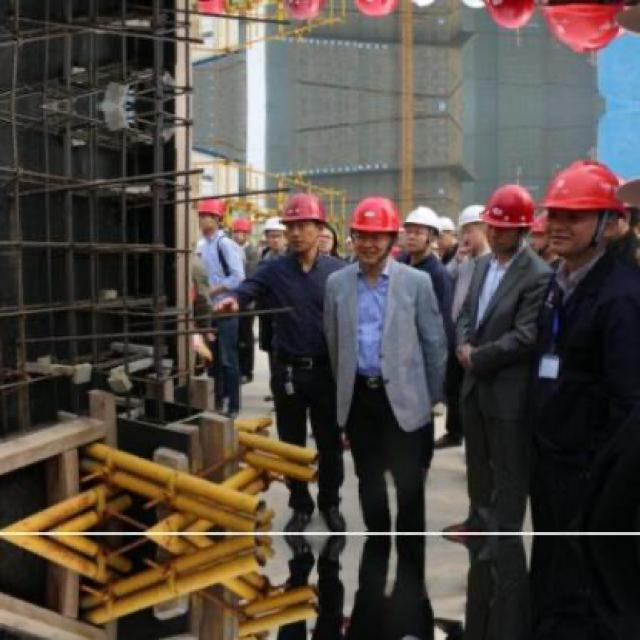con casco: (521, 150, 640, 276), (443, 179, 539, 278), (334, 284, 335, 284)
